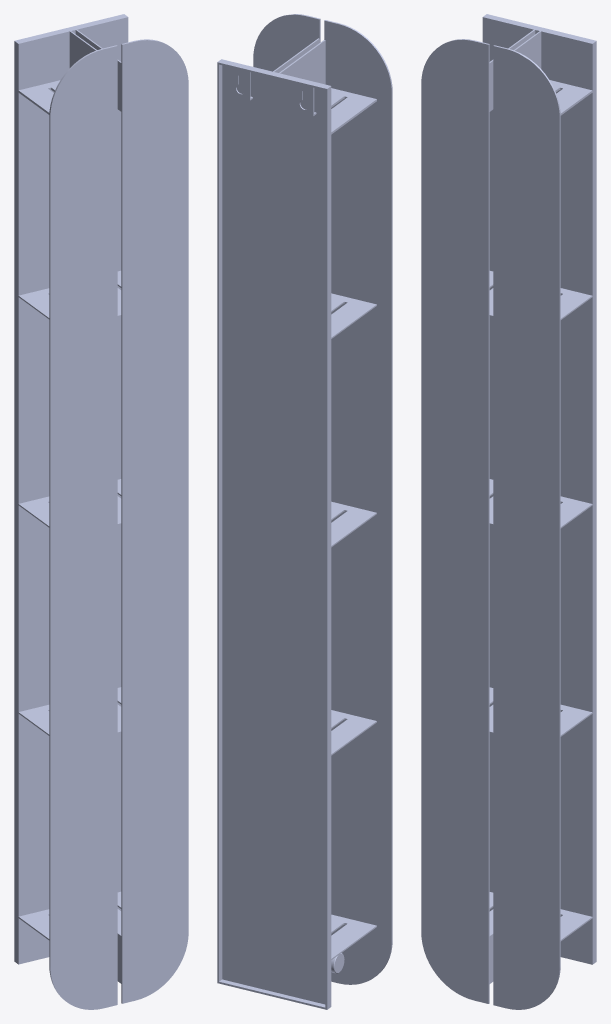
File: round-prima.d2ed59d690.glb
The picture shows the model from 3 angles, left to right: view 1: azimuth 30°, elevation 25°; view 2: azimuth 150°, elevation 25°; view 3: azimuth 330°, elevation 25°; orthographic projection.
Visible parts, largest first — view 1: NAUO1; view 2: NAUO1; view 3: NAUO1.
Part boxes in pixels (x1,y1,x2,y2): NAUO1: (14, 14, 188, 1009); NAUO1: (217, 14, 392, 1009); NAUO1: (421, 14, 596, 1009).
Bounding box in the file's own units: 0.1511 × 1 × 0.096.
